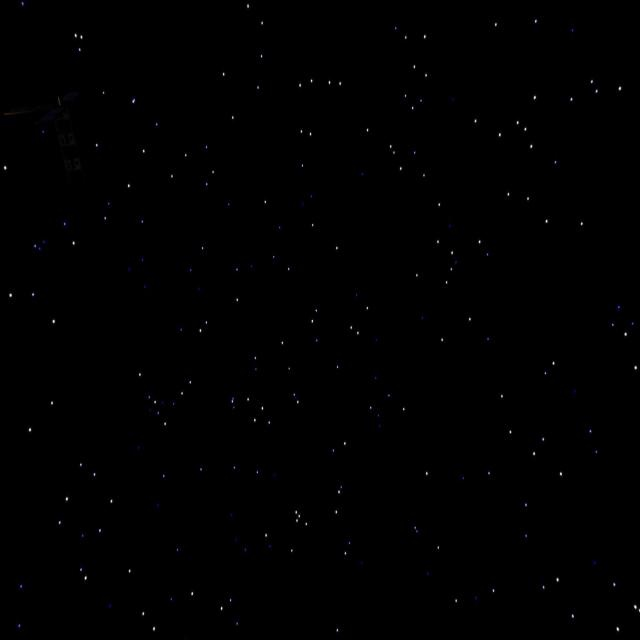satellite: (7, 59, 129, 209)
